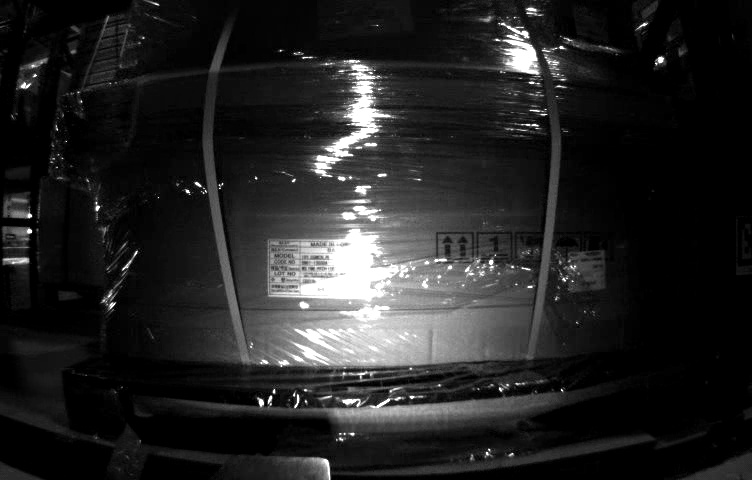True Barcode: (566, 250, 606, 290)
